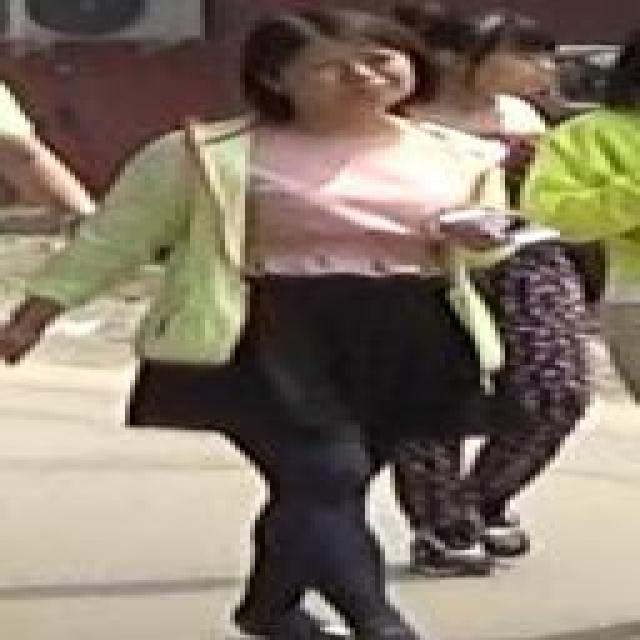adult: (48, 9, 514, 640), (410, 18, 596, 553), (544, 80, 640, 496)
